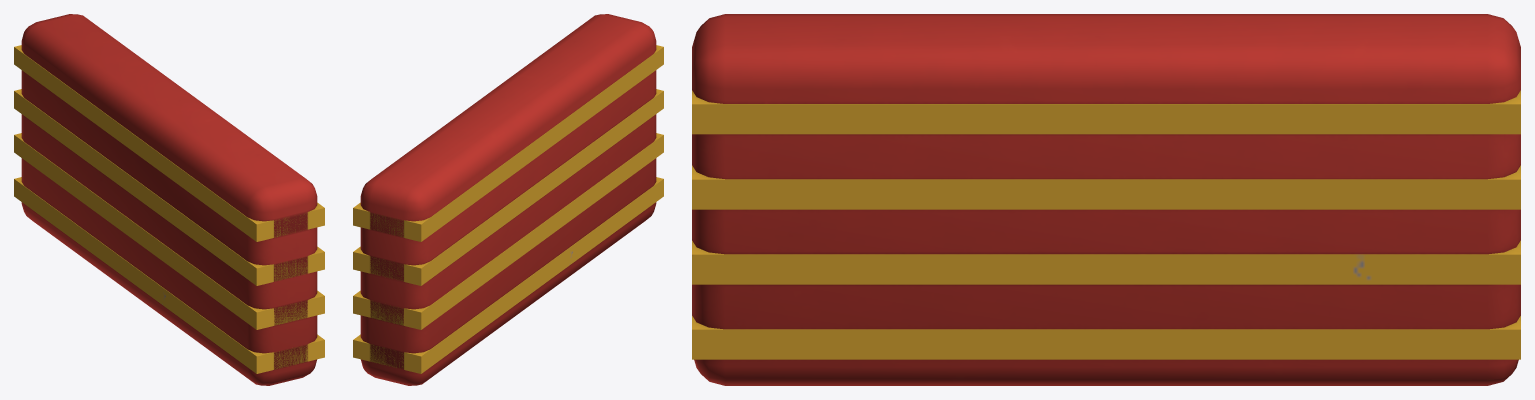
File: prop_bumper.fbx
3 renders of one model, left to right at view 1: azimuth 30°, elevation 25°; view 2: azimuth 150°, elevation 25°; view 3: azimuth 270°, elevation 25°, orthographic. The views are drawn at different scales.
Visible parts, largest first — view 1: prop_bumper; view 2: prop_bumper; view 3: prop_bumper.
Part boxes in pixels (x1,y1,x2,y2): prop_bumper: [14, 14, 324, 385]; prop_bumper: [353, 14, 663, 385]; prop_bumper: [692, 14, 1520, 385].
Bounding box in the file's own units: 0.162 × 0.45 × 1.
